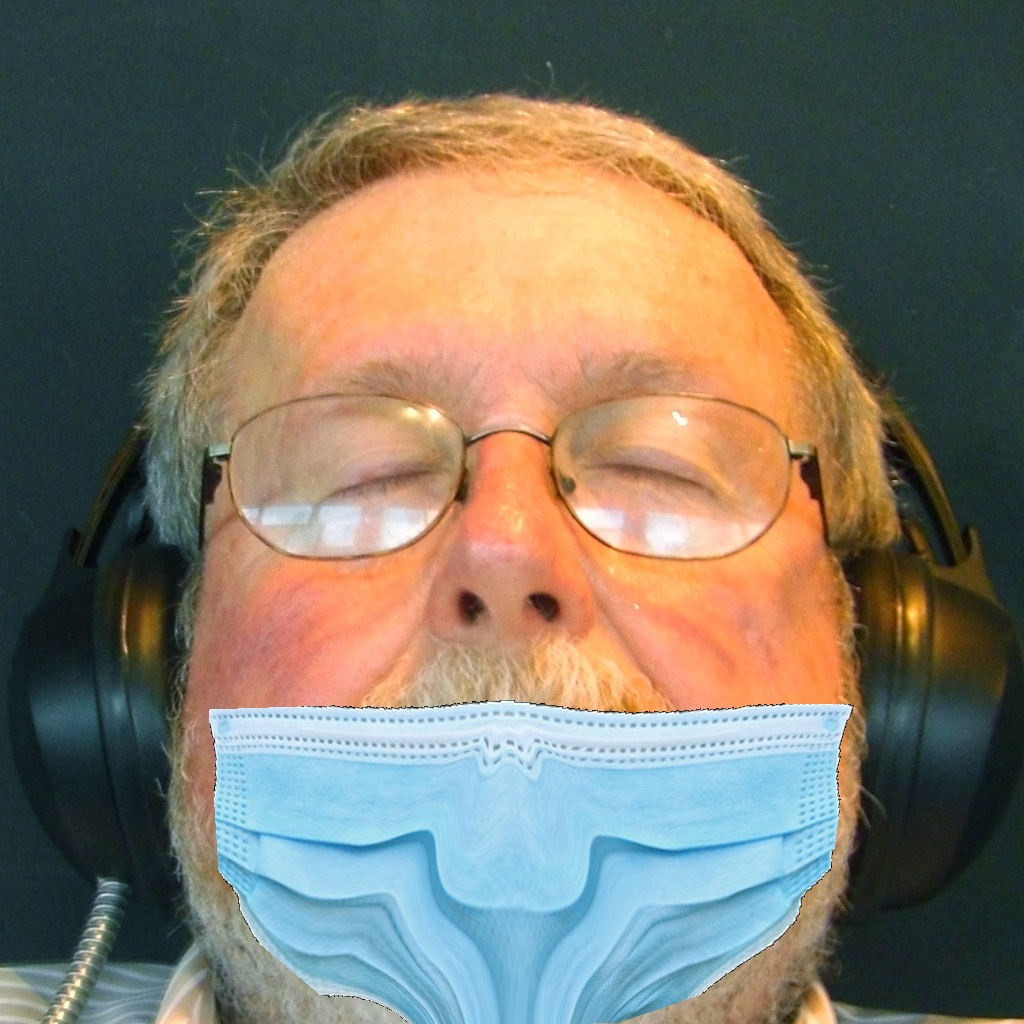mascarilla_mal_puesta: (224, 355, 864, 1024)
